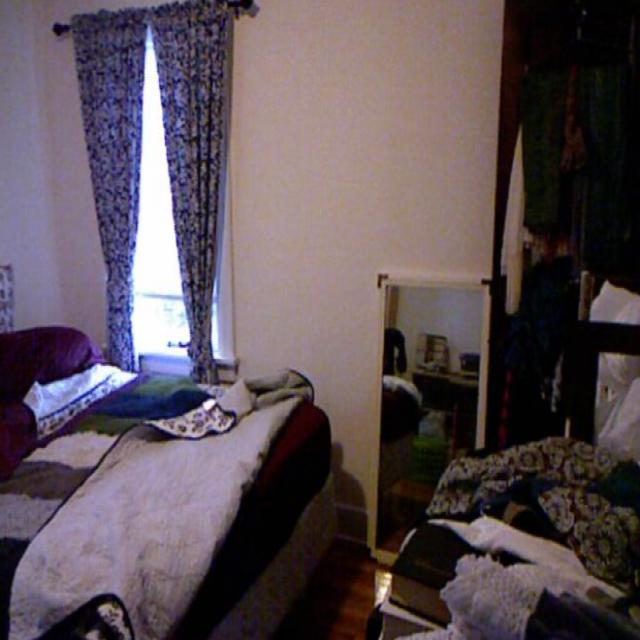bed: (6, 338, 324, 636)
window: (75, 16, 235, 339)
